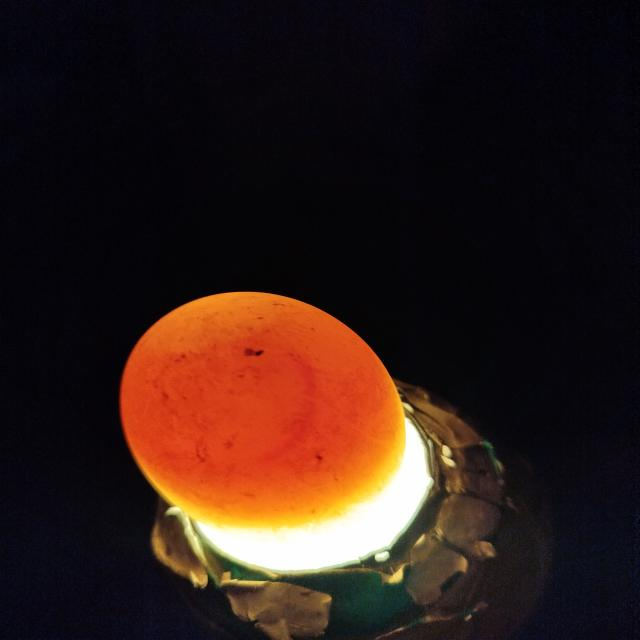Gema Quebrada: (120, 300, 396, 502)
